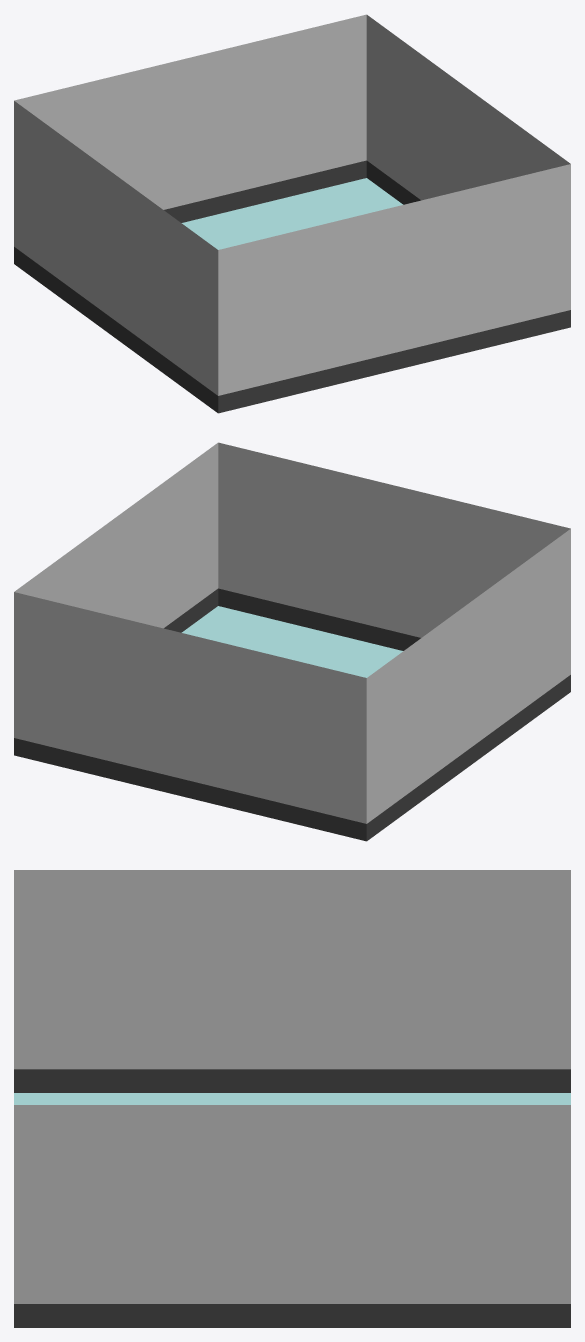
Rendered from room4x4.fbx.
The picture shows the model from 3 angles, top to bottom: view 1: azimuth 30°, elevation 25°; view 2: azimuth 150°, elevation 25°; view 3: azimuth 270°, elevation 25°; orthographic projection. The views are drawn at different scales.
Visible parts, largest first — view 1: room4x4; view 2: room4x4; view 3: room4x4.
Boxes of the visible parts, x1,y1,x2,y2 form: room4x4: (14, 14, 570, 413); room4x4: (14, 442, 570, 841); room4x4: (14, 870, 570, 1327).
Size of the model in its own units: 759 by 336 by 761.
